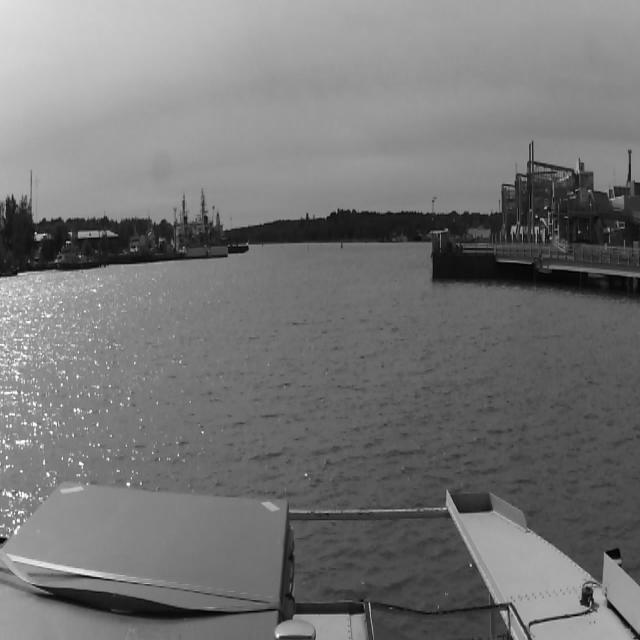ship: (197, 176, 231, 265), (170, 193, 204, 263)
